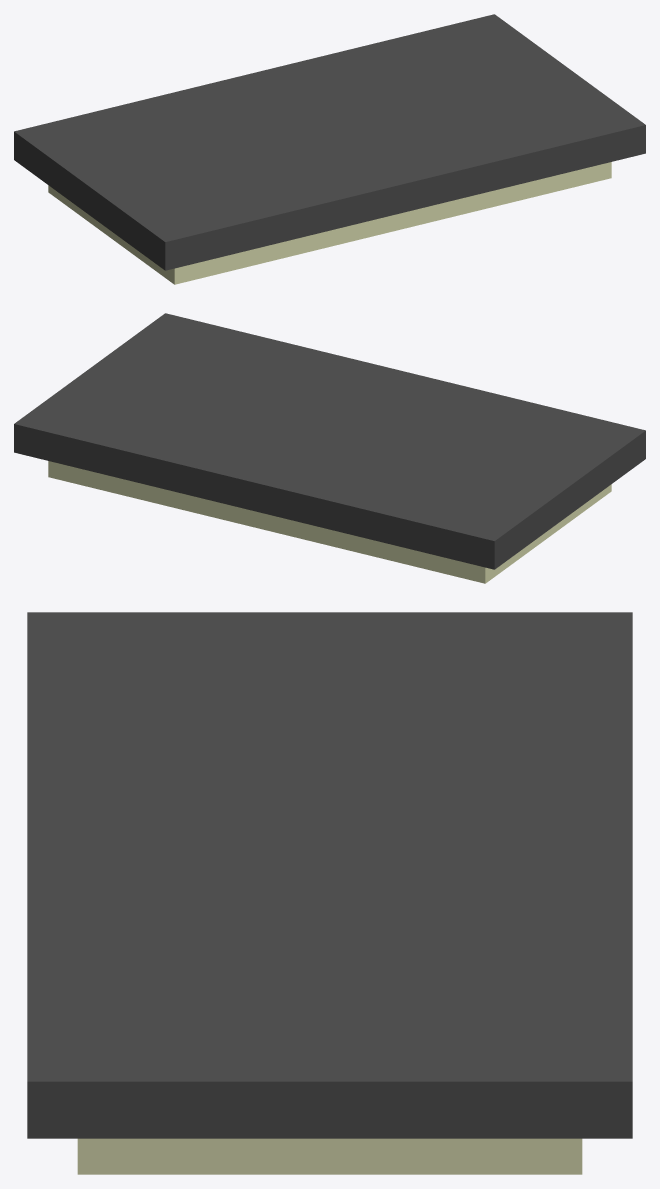
Rendered from CeilingLight.glb.
3 views of the same model, one above another, from view 1: azimuth 30°, elevation 25°; view 2: azimuth 150°, elevation 25°; view 3: azimuth 270°, elevation 25° (orthographic). The views are drawn at different scales.
Visible parts, largest first — view 1: Cube; view 2: Cube; view 3: Cube.
Part boxes in pixels (bbox=[...]): Cube: bbox=[14, 14, 645, 284]; Cube: bbox=[14, 313, 645, 583]; Cube: bbox=[27, 612, 632, 1174].
Bounding box in the file's own units: 4.4 × 0.5 × 2.4.
